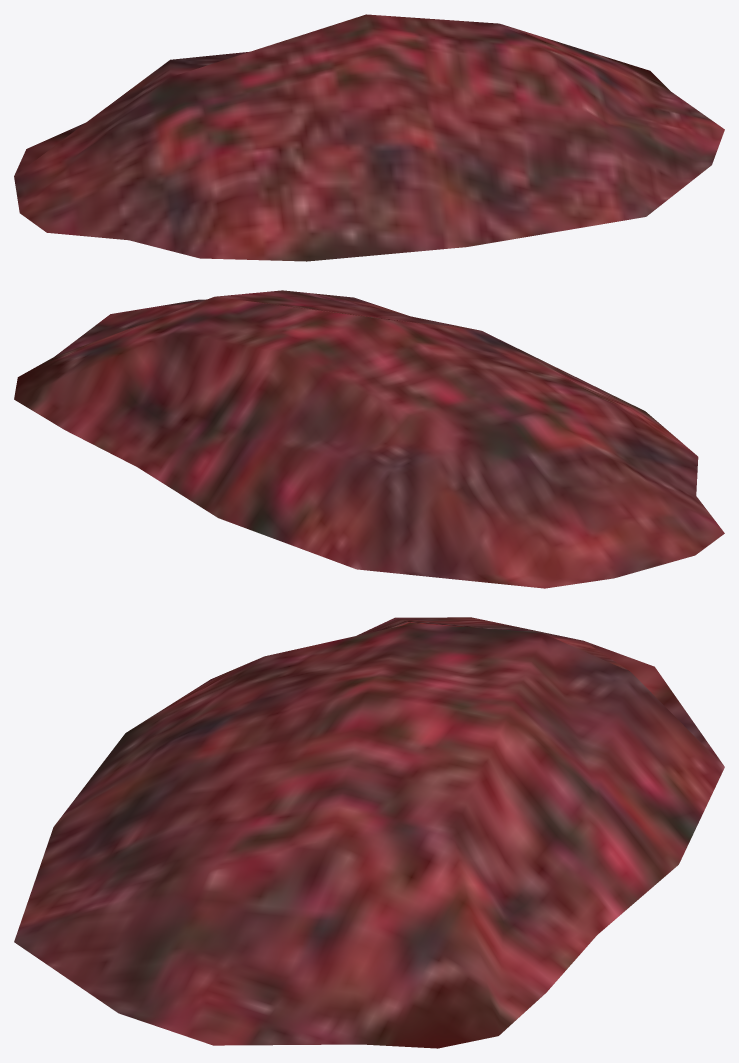
File: guts_1.FBX
3 renders of one model, top to bottom at view 1: azimuth 30°, elevation 25°; view 2: azimuth 150°, elevation 25°; view 3: azimuth 270°, elevation 25°, orthographic. The views are drawn at different scales.
Parts seen in each view (by area): view 1: guts_1; view 2: guts_1; view 3: guts_1.
Boxes of the visible parts, bbox=[...] form: guts_1: bbox=[14, 14, 724, 261]; guts_1: bbox=[14, 290, 724, 588]; guts_1: bbox=[14, 617, 724, 1048].
Bounding box in the file's own units: 58.23 × 9.52 × 40.58.
